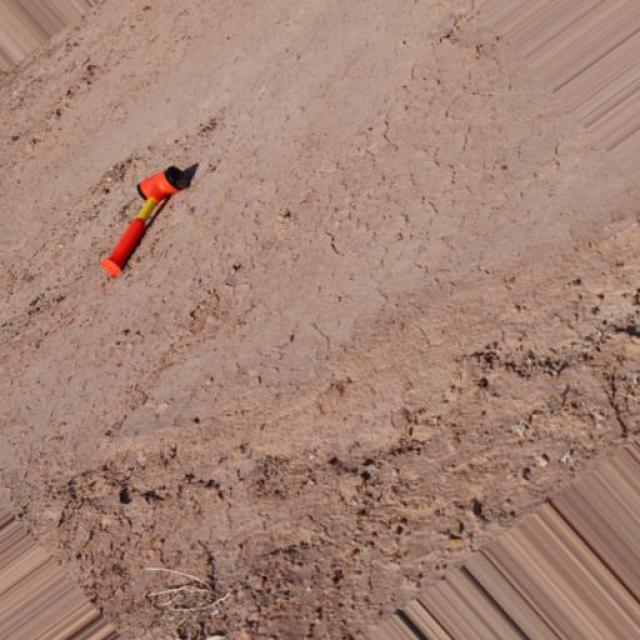mallet: (99, 160, 199, 279)
